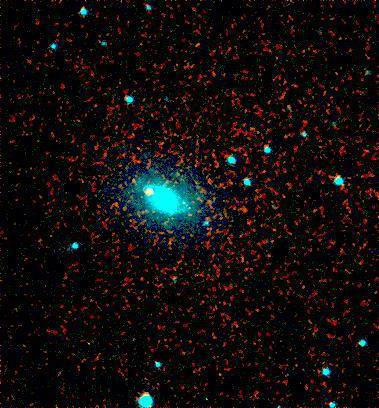star: (135, 176, 165, 206)
